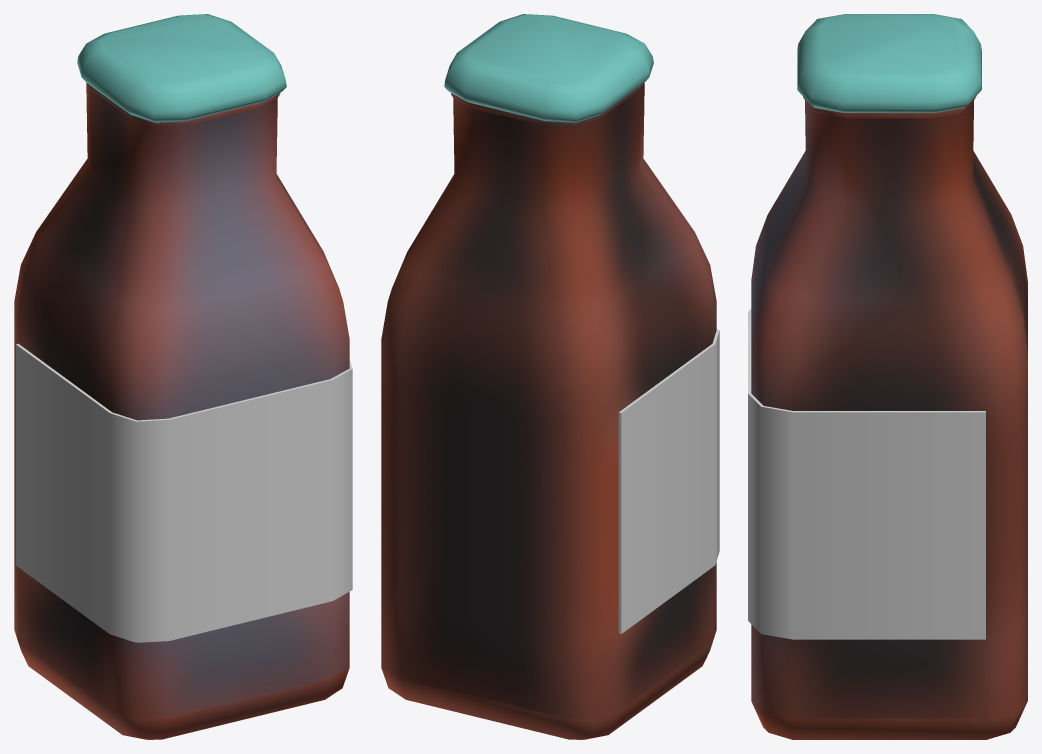
The model's file is Juice.fbx.
3 renders of one model, left to right at view 1: azimuth 30°, elevation 25°; view 2: azimuth 150°, elevation 25°; view 3: azimuth 270°, elevation 25°, orthographic. The views are drawn at different scales.
Visible parts, largest first — view 1: Juice-Glass, Juice-Cover; view 2: Juice-Glass, Juice-Cover; view 3: Juice-Glass, Juice-Cover.
Boxes of the visible parts, left/top/right/bottom form: Juice-Glass: left=14, top=82, right=352, bottom=739; Juice-Cover: left=77, top=14, right=286, bottom=122; Juice-Glass: left=381, top=82, right=719, bottom=739; Juice-Cover: left=444, top=14, right=653, bottom=122; Juice-Glass: left=748, top=96, right=1027, bottom=739; Juice-Cover: left=797, top=14, right=981, bottom=112.
Size of the model in its own units: 0.6139 by 1.57 by 0.607.
